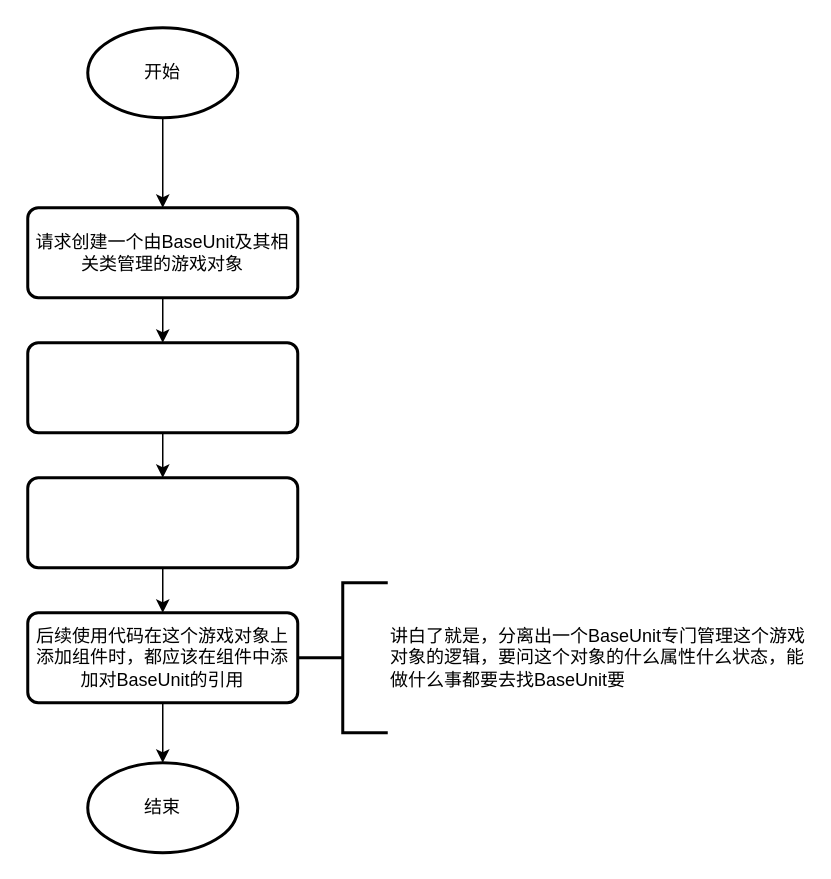
This 831x879 diagram has some shape labels left out. The centre of each missing label's shape, as x and y in pixels:
先实例化这个游戏对象: (x=162, y=387)
把这个游戏对象引用作为参数创建一个BaseUnit及其相关类: (x=162, y=522)
